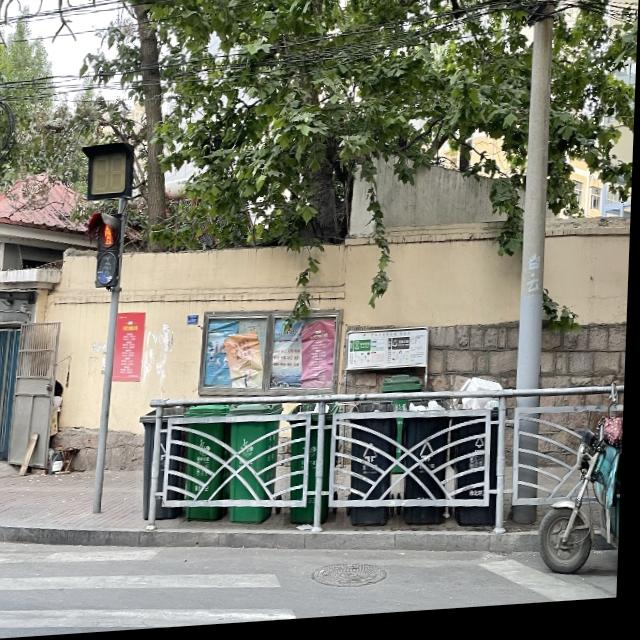garbage_bin: (226, 404, 287, 529), (288, 405, 344, 530), (348, 403, 401, 532), (184, 405, 235, 526), (139, 407, 190, 523), (382, 378, 425, 480)
overflow: (450, 382, 503, 537), (403, 402, 454, 533)
